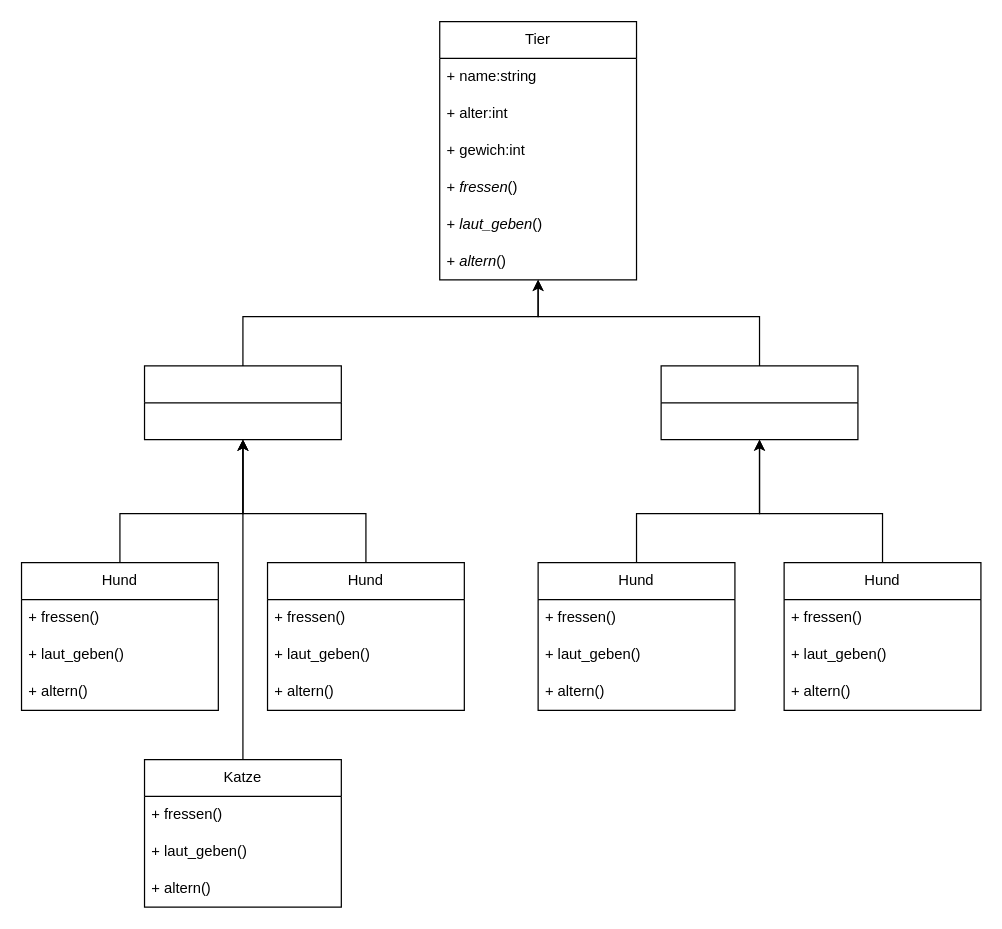
Some shapes in this 1002 by 929 pixel diagram are drawn without their labels. Here are the shapes that lost their labels. From the top down, the centre of each, then its label:
(242,402): Säugetier
(759,402): Vogel
